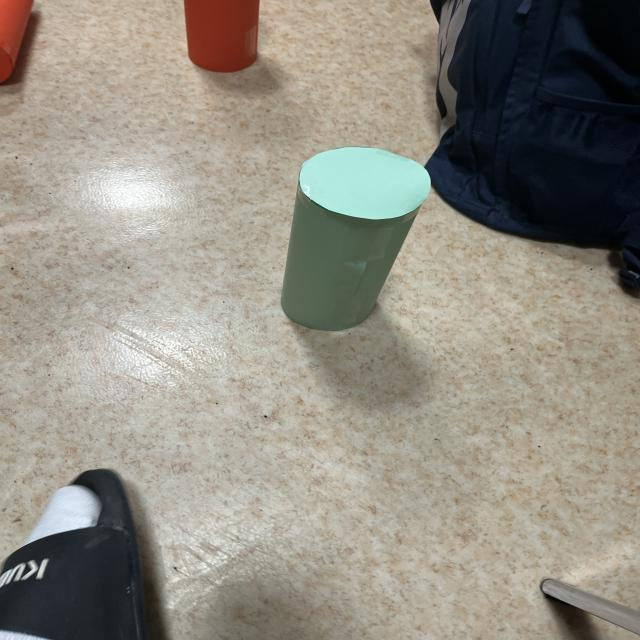meta: (281, 147, 430, 331)
